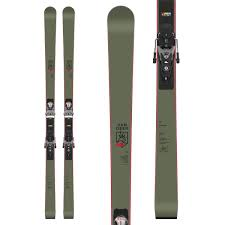skis: (105, 1, 180, 225), (43, 6, 78, 219)
